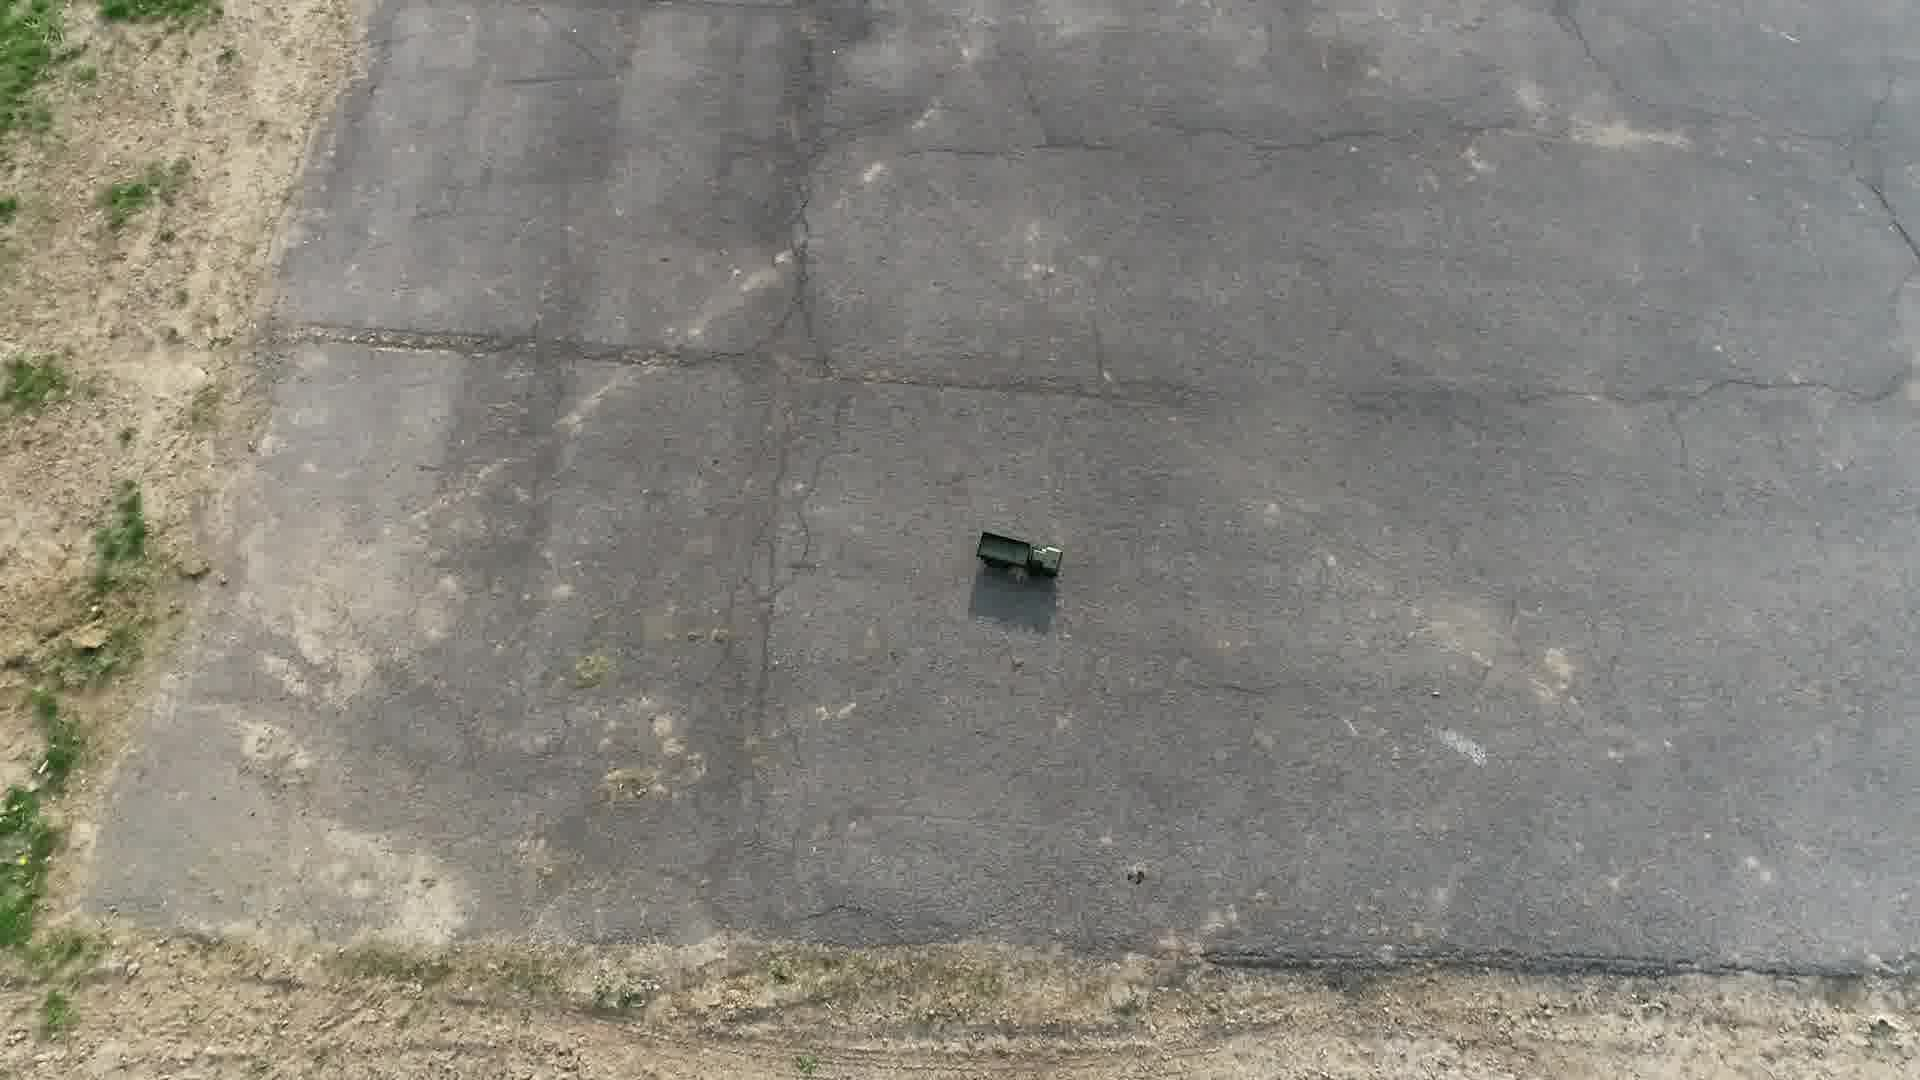transporter9: (971, 529, 1068, 583)
